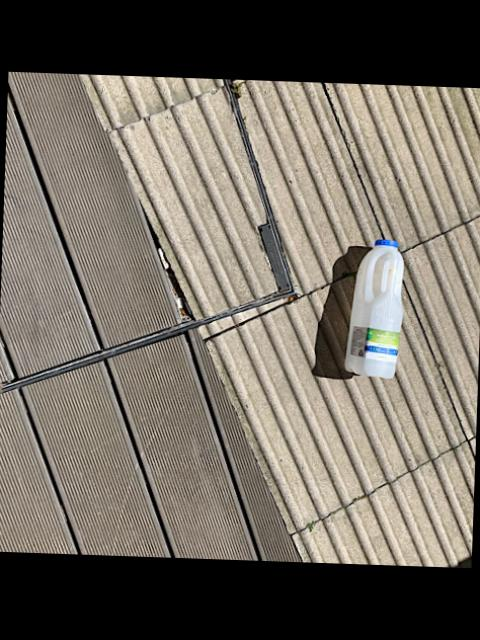plastic: (346, 239, 404, 376)
